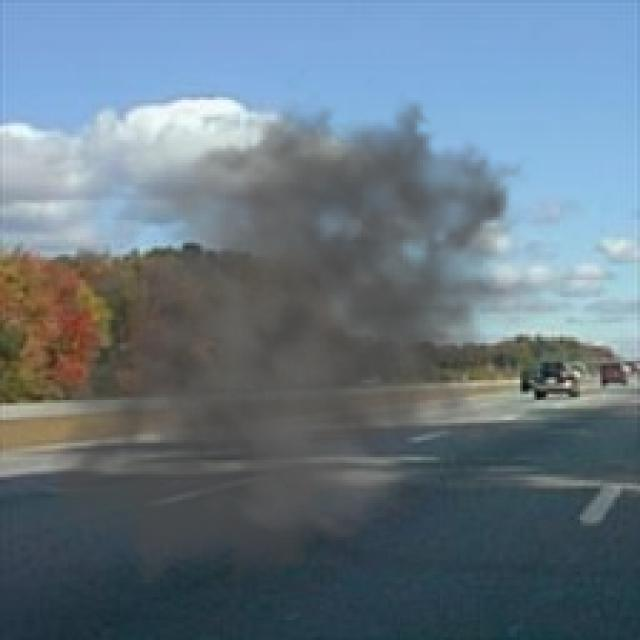Smoke: (11, 66, 552, 623)
